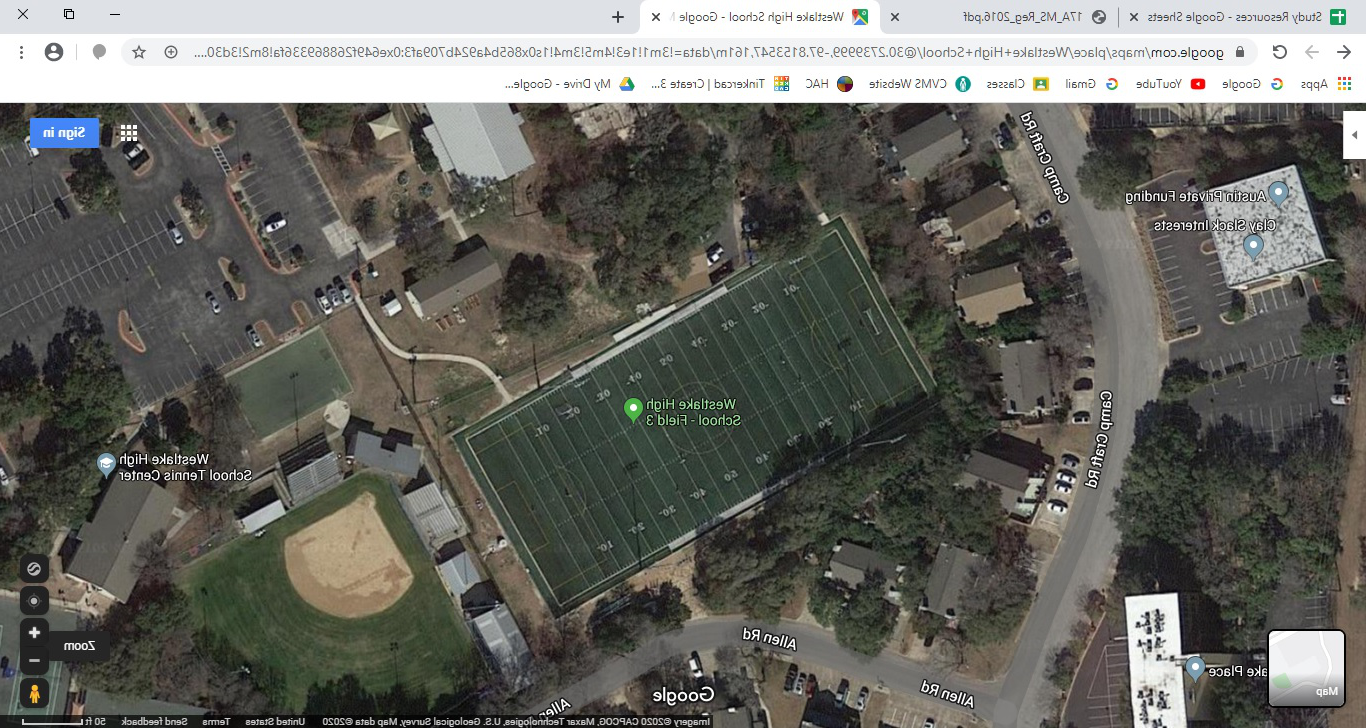baseball: (149, 473, 458, 722)
football: (436, 311, 1045, 525)
